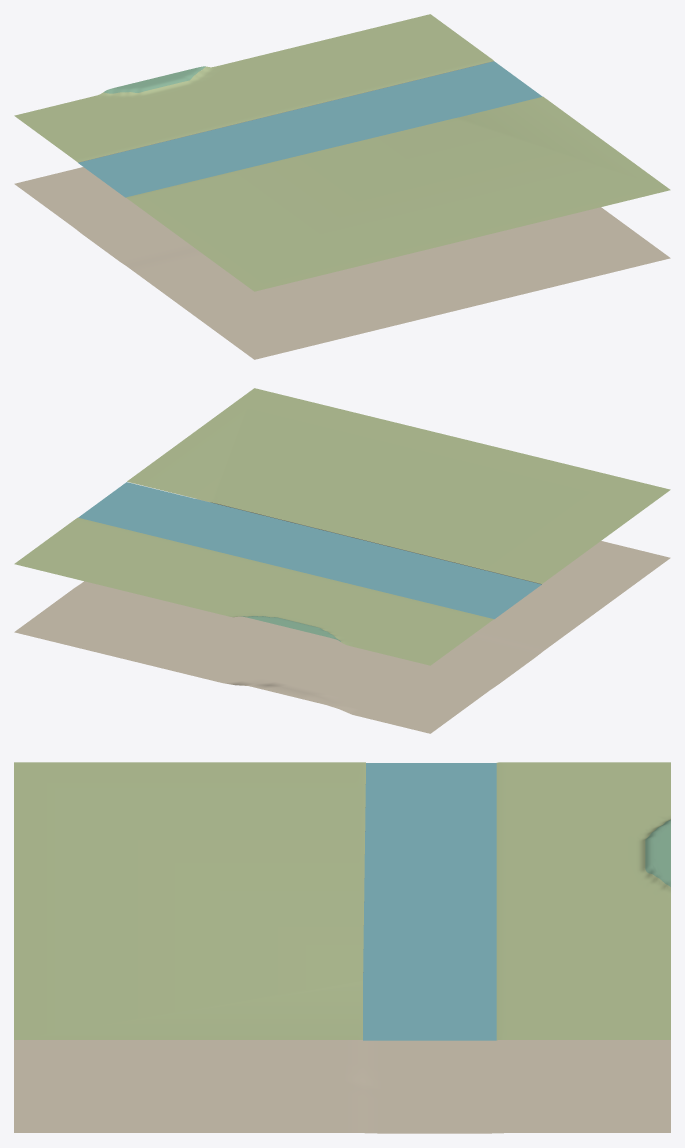
3 views of the same model, one above another, from view 1: azimuth 30°, elevation 25°; view 2: azimuth 150°, elevation 25°; view 3: azimuth 270°, elevation 25° (orthographic). The views are drawn at different scales.
Visible parts, largest first — view 1: s_-1_6__grass, s_-1_6__soil, s_-1_6__water, s_-1_6__green_court; view 2: s_-1_6__grass, s_-1_6__soil, s_-1_6__water, s_-1_6__green_court; view 3: s_-1_6__grass, s_-1_6__soil, s_-1_6__water, s_-1_6__green_court.
Boxes of the visible parts, left/top/right/bottom form: s_-1_6__grass: left=14, top=14, right=670, bottom=291; s_-1_6__soil: left=14, top=167, right=670, bottom=359; s_-1_6__water: left=78, top=61, right=542, bottom=197; s_-1_6__green_court: left=104, top=66, right=205, bottom=93; s_-1_6__grass: left=14, top=388, right=670, bottom=665; s_-1_6__soil: left=14, top=499, right=670, bottom=733; s_-1_6__water: left=78, top=482, right=541, bottom=619; s_-1_6__green_court: left=241, top=616, right=340, bottom=641; s_-1_6__grass: left=14, top=762, right=670, bottom=1040; s_-1_6__soil: left=14, top=1040, right=670, bottom=1133; s_-1_6__water: left=363, top=763, right=496, bottom=1040; s_-1_6__green_court: left=645, top=820, right=670, bottom=886.
Size of the model in its own units: 128 by 21.14 by 128.
